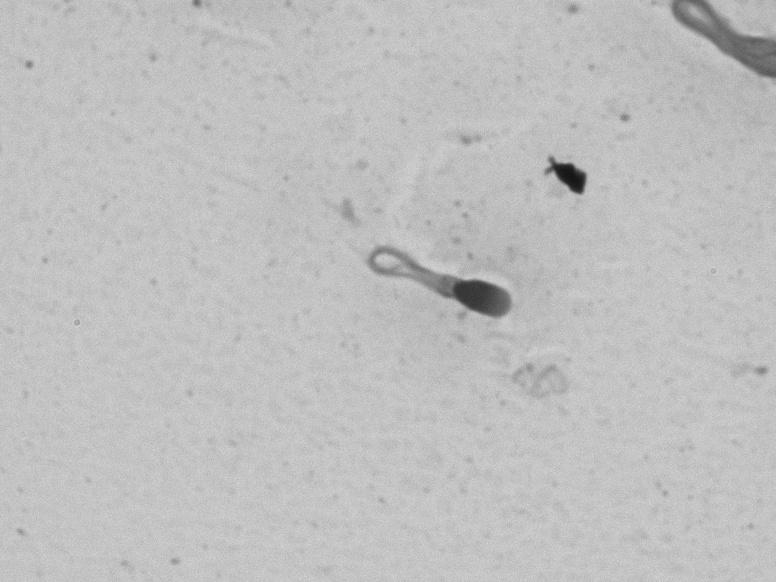Abnormal: (354, 229, 535, 344)
